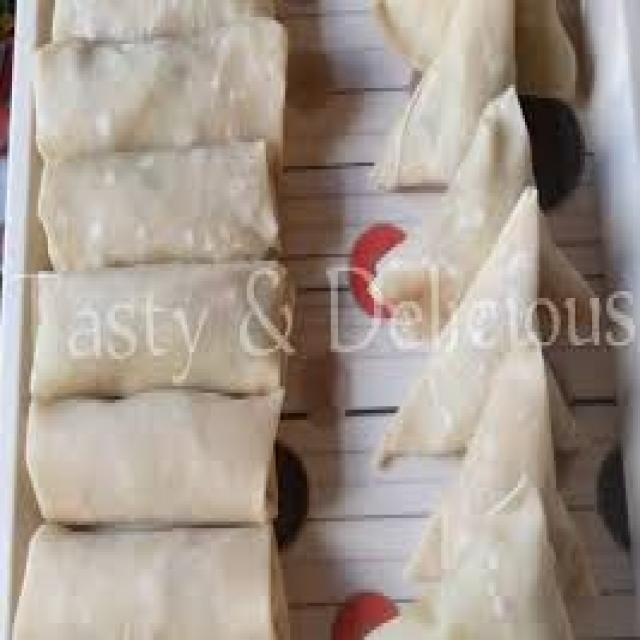Samosa: (362, 0, 615, 640)
Spring Rolls: (17, 0, 285, 640)
